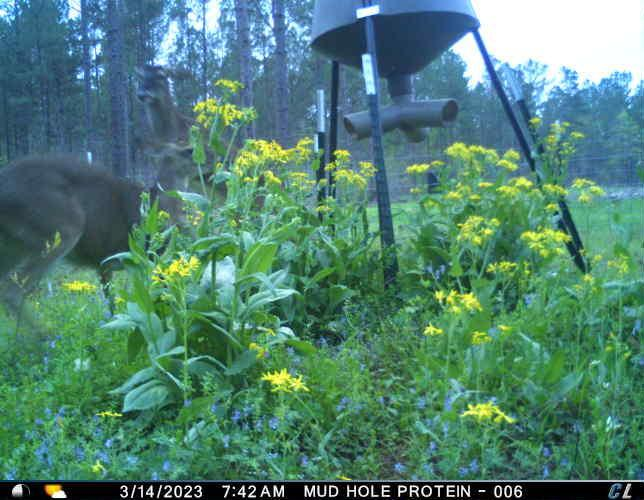Deer: (0, 135, 229, 341), (128, 57, 282, 214)
